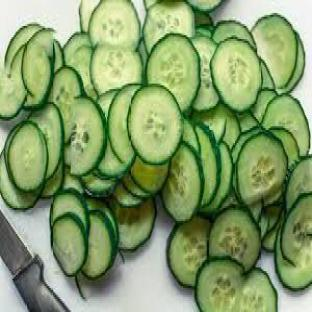Cucumber: (127, 86, 183, 165), (147, 34, 200, 111), (237, 132, 288, 206), (212, 38, 262, 111), (252, 15, 297, 89), (162, 143, 204, 222), (209, 208, 261, 271), (167, 218, 211, 287), (71, 97, 107, 176), (263, 95, 309, 155), (8, 121, 47, 191), (280, 194, 311, 282), (143, 2, 194, 53), (30, 104, 64, 180), (49, 67, 83, 142), (22, 30, 54, 109), (108, 86, 140, 165), (91, 45, 142, 94), (195, 259, 243, 311), (200, 143, 234, 215), (51, 212, 88, 276), (83, 210, 117, 278), (0, 153, 40, 209), (114, 201, 157, 252), (193, 103, 241, 148), (275, 233, 310, 291), (192, 36, 218, 111), (196, 125, 220, 206), (0, 47, 27, 118), (233, 268, 277, 311), (5, 23, 41, 70), (67, 45, 97, 100), (50, 190, 89, 232), (97, 136, 132, 178), (280, 34, 305, 92), (86, 197, 118, 241), (285, 156, 311, 209), (231, 127, 262, 167), (192, 106, 226, 142), (270, 127, 299, 167), (213, 21, 255, 48), (41, 160, 64, 198), (64, 32, 91, 63), (82, 173, 116, 196), (252, 90, 276, 122), (263, 214, 283, 252), (113, 182, 142, 207), (123, 175, 150, 198), (261, 205, 282, 233), (97, 90, 118, 118), (63, 166, 84, 194), (183, 117, 199, 152), (138, 39, 148, 85), (261, 60, 275, 89), (238, 112, 258, 131), (221, 188, 238, 209), (246, 203, 264, 222), (54, 41, 64, 72), (258, 210, 268, 241), (194, 10, 214, 25), (196, 26, 214, 38), (64, 143, 70, 167)
